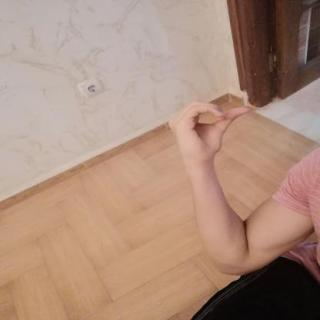WAW: (161, 93, 257, 168)
